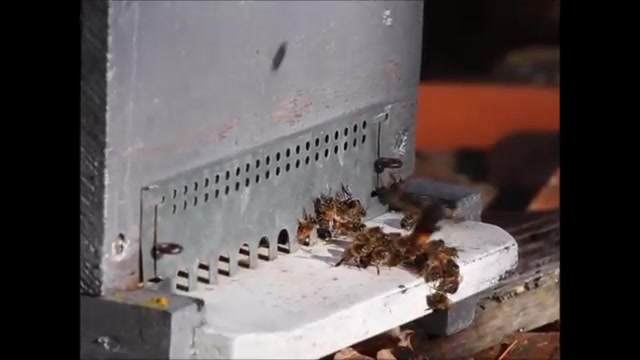bee: (341, 242, 373, 262), (325, 194, 343, 226), (346, 197, 367, 224), (441, 263, 461, 290), (430, 293, 455, 312), (298, 216, 316, 238)
hornet: (407, 211, 437, 258)
